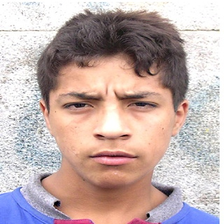no_mask: (47, 62, 174, 187)
